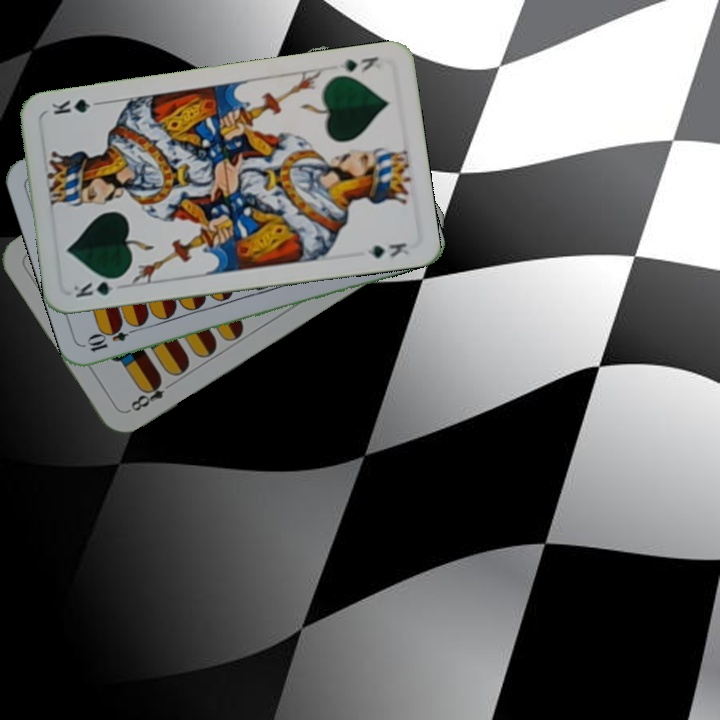E10: (83, 322, 141, 355)
E8: (123, 374, 177, 415)
GK: (69, 273, 125, 301), (336, 52, 381, 76)
